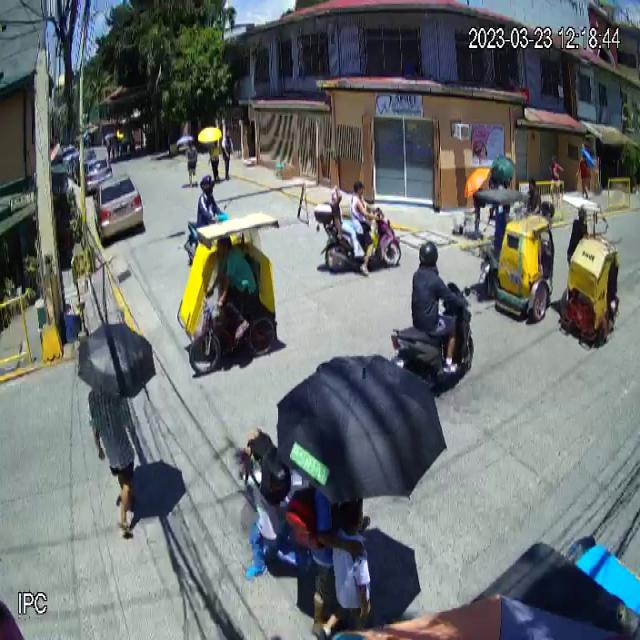Car: (93, 172, 144, 243)
Motorcycle: (392, 283, 474, 399), (314, 202, 402, 274)
Tricycle: (473, 190, 555, 319)
